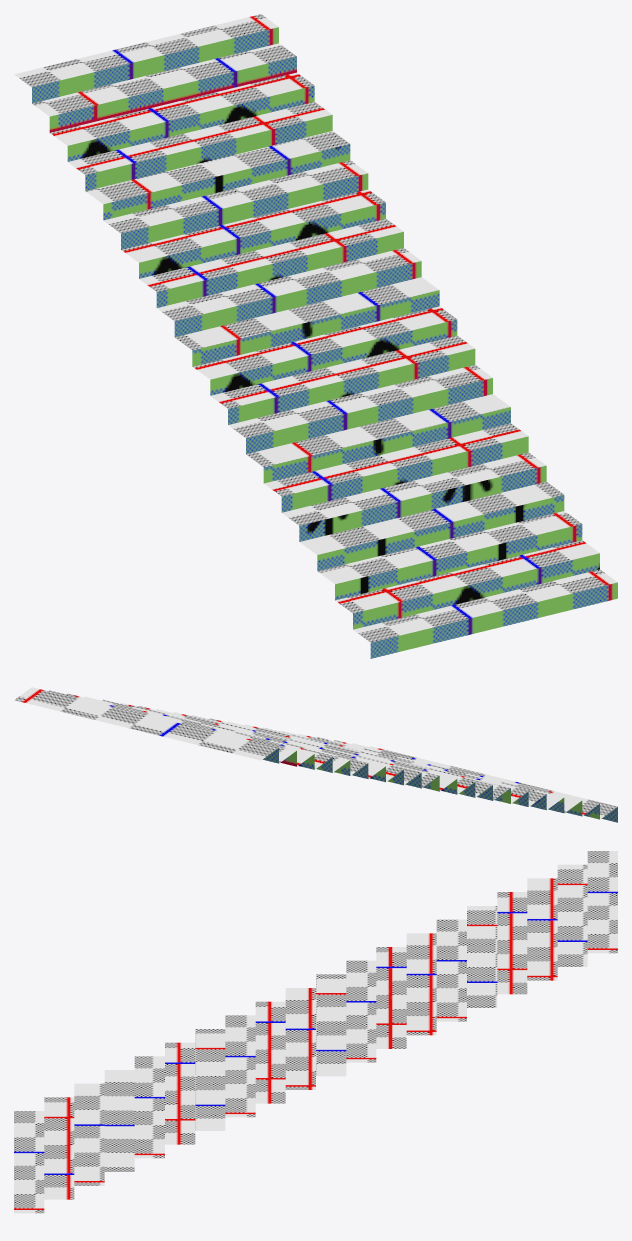
The model's file is stairs1_steps_only.obj.
The picture shows the model from 3 angles, top to bottom: view 1: azimuth 30°, elevation 25°; view 2: azimuth 150°, elevation 25°; view 3: azimuth 270°, elevation 25°; orthographic projection. The views are drawn at different scales.
Parts seen in each view (by area): view 1: Cube.007; view 2: Cube.007; view 3: Cube.007.
Part boxes in pixels (bbox=[...]): Cube.007: bbox=[14, 14, 617, 658]; Cube.007: bbox=[14, 687, 617, 822]; Cube.007: bbox=[14, 851, 617, 1213].
Bounding box in the file's own units: 8 × 10 × 20.
